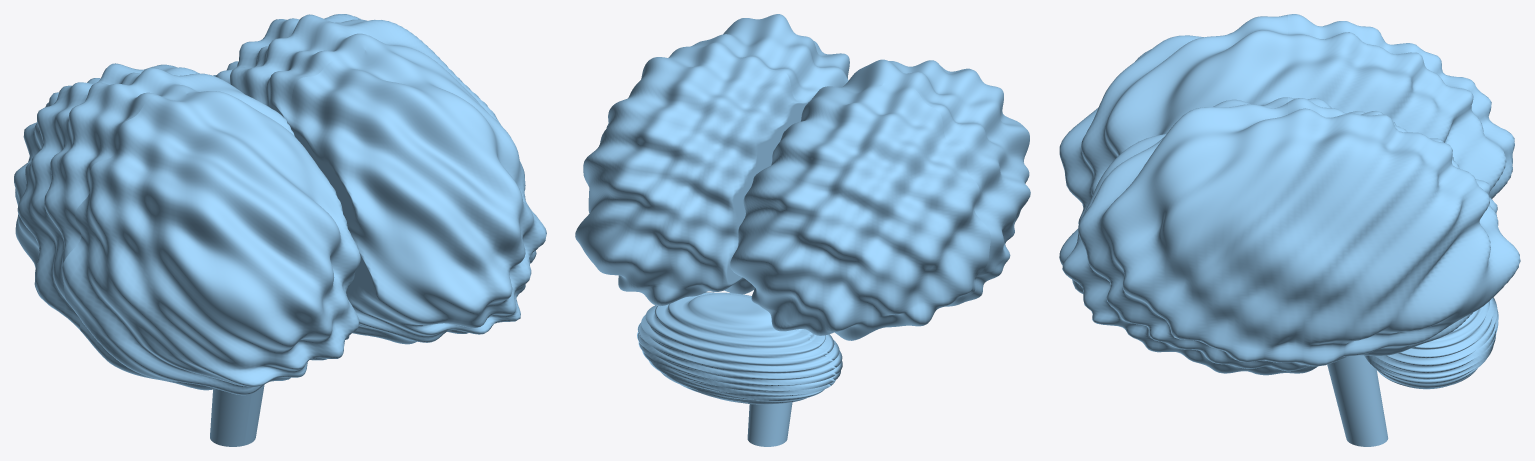
File: brain.glb
The picture shows the model from 3 angles, left to right: view 1: azimuth 30°, elevation 25°; view 2: azimuth 150°, elevation 25°; view 3: azimuth 270°, elevation 25°; orthographic projection. The views are drawn at different scales.
Parts seen in each view (by area): view 1: brain_placeholder; view 2: brain_placeholder; view 3: brain_placeholder.
Part boxes in pixels (x1=…): brain_placeholder: x1=14, y1=14, x2=546, y2=446; brain_placeholder: x1=575, y1=14, x2=1030, y2=446; brain_placeholder: x1=1059, y1=14, x2=1520, y2=446.
Size of the model in its own units: 1.83 by 1.66 by 1.86.
